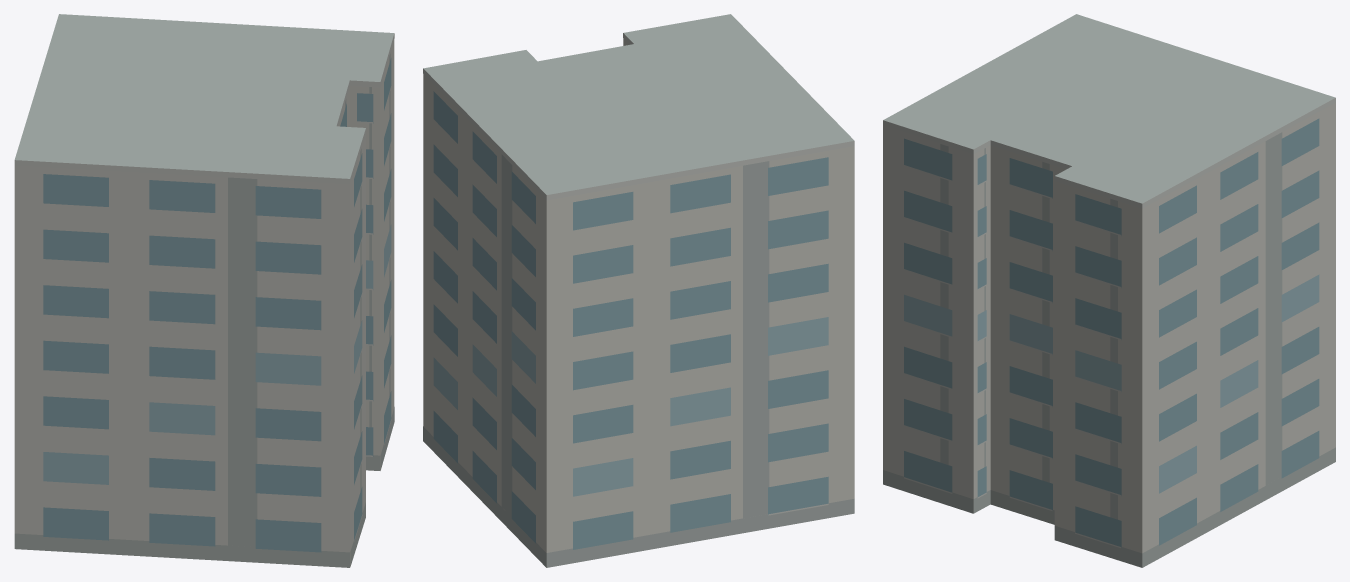
File: survey-upis-32965965.glb
The picture shows the model from 3 angles, left to right: view 1: azimuth 30°, elevation 25°; view 2: azimuth 150°, elevation 25°; view 3: azimuth 270°, elevation 25°; orthographic projection. The views are drawn at different scales.
Visible parts, largest first — view 1: survey-upis-32965965.tmp; view 2: survey-upis-32965965.tmp; view 3: survey-upis-32965965.tmp.
Boxes of the visible parts, left/top/right/bottom form: survey-upis-32965965.tmp: left=14, top=14, right=394, bottom=567; survey-upis-32965965.tmp: left=423, top=14, right=854, bottom=567; survey-upis-32965965.tmp: left=883, top=14, right=1335, bottom=567.
Size of the model in its own units: 19.55 by 17.5 by 19.72.
